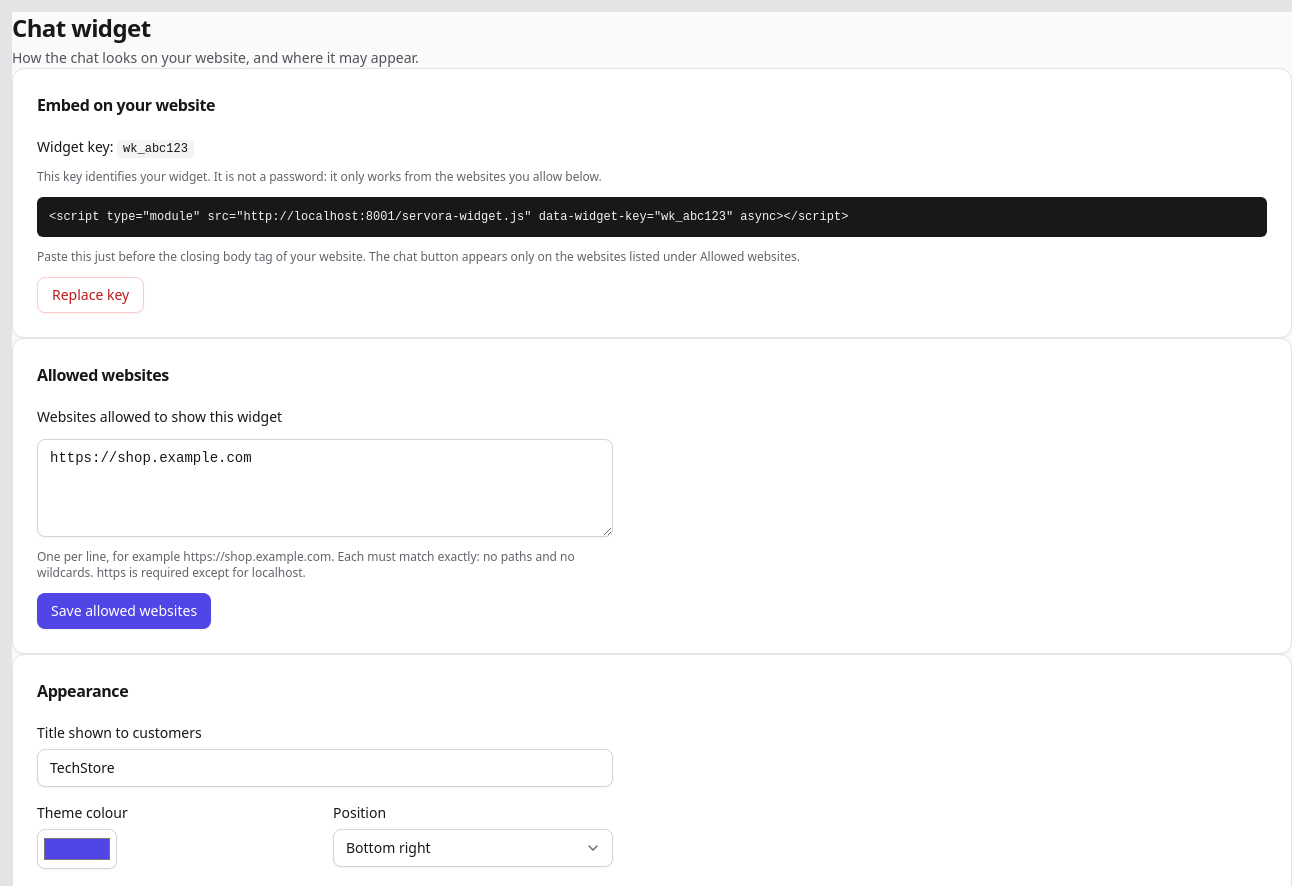
Test: widget page › shows why an origin was rejected
Click the button "Save allowed websites" at (124, 611), box [37,593,211,629]
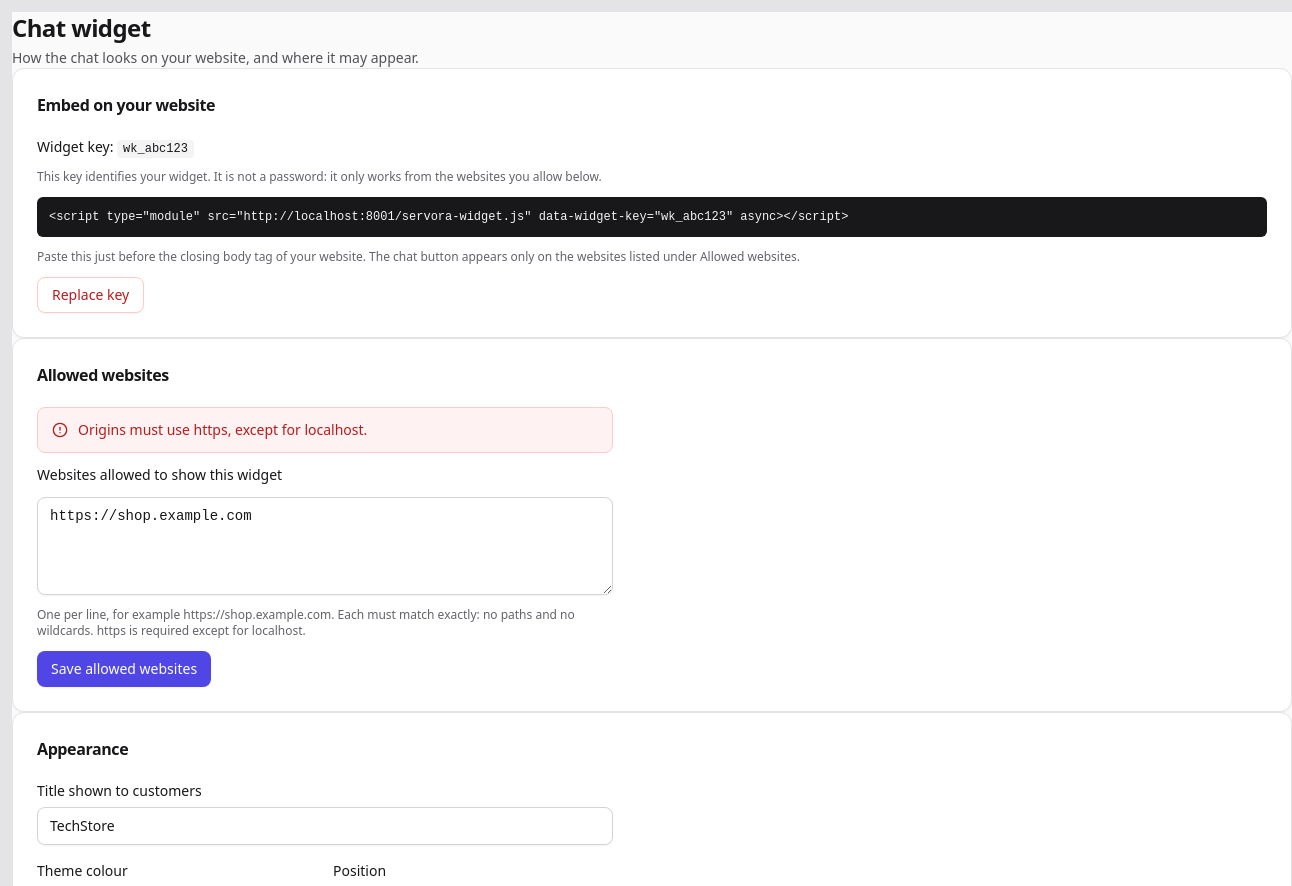
expect the message shows "Origins must use https": met, box [78,420,367,439]
